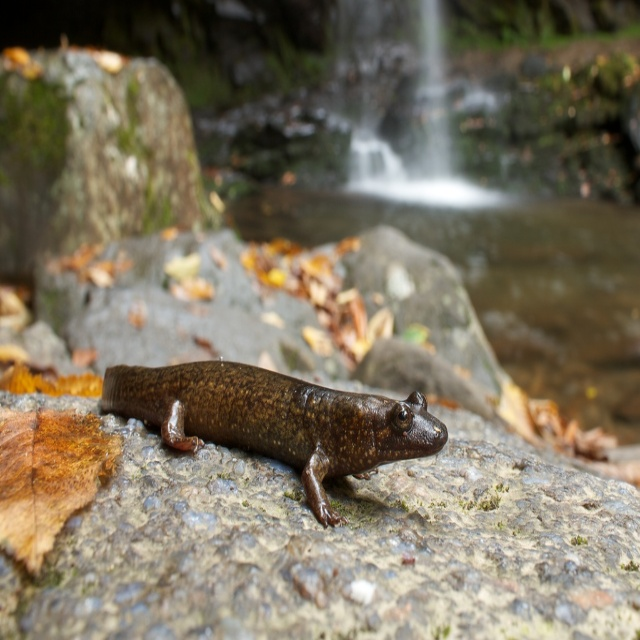Lizard: (94, 362, 455, 554)
